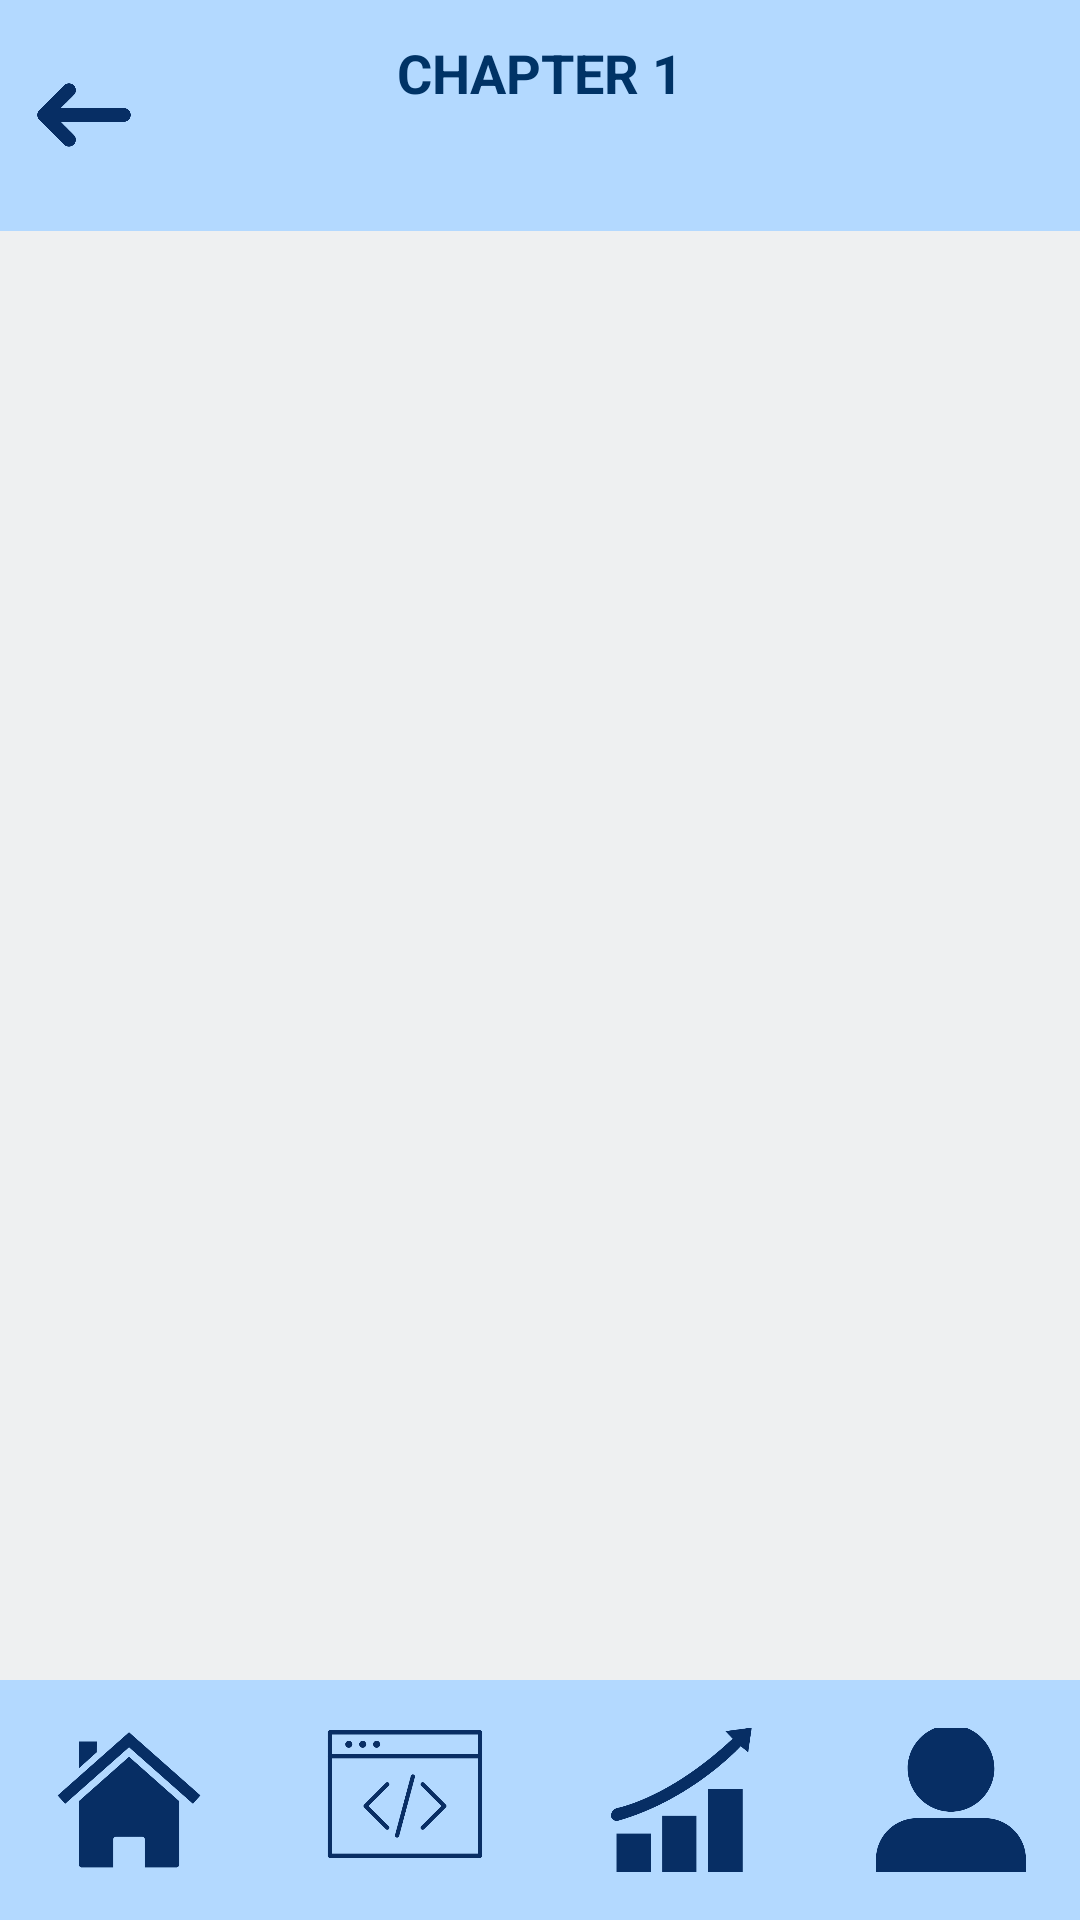

Named icons in this screenshot (1080px x 1920px) and their bounding boxes, (x1, y1, x2, y2):
Back: (37, 83, 131, 147)
code: (328, 1730, 482, 1858)
home: (58, 1732, 200, 1868)
profile: (876, 1728, 1026, 1872)
stats: (611, 1728, 752, 1872)
